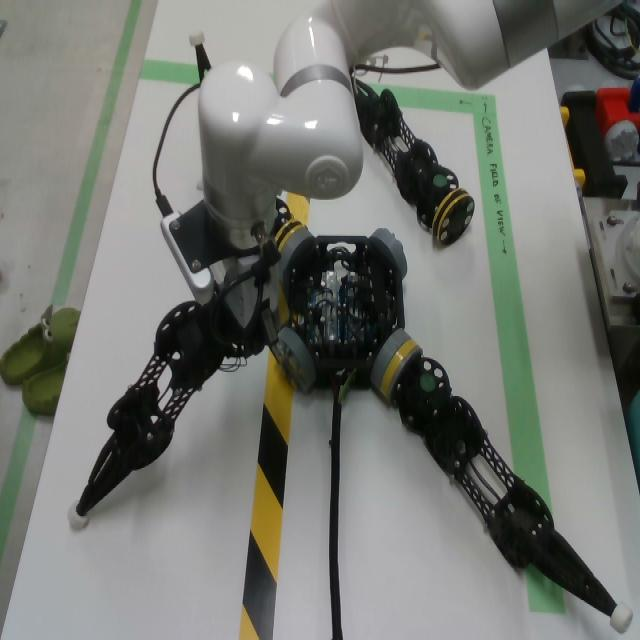body: (288, 236, 405, 392)
body_connector: (271, 327, 317, 395), (369, 328, 411, 391), (370, 228, 407, 279), (279, 228, 314, 281)
gripper: (223, 256, 280, 360)
leg: (380, 339, 635, 635), (67, 299, 247, 531), (355, 79, 475, 247), (189, 31, 212, 83), (274, 197, 293, 233)
leg_connector: (378, 339, 422, 407), (431, 188, 475, 247), (275, 217, 305, 252)
leg_marker: (420, 373, 435, 391), (434, 176, 447, 187)
